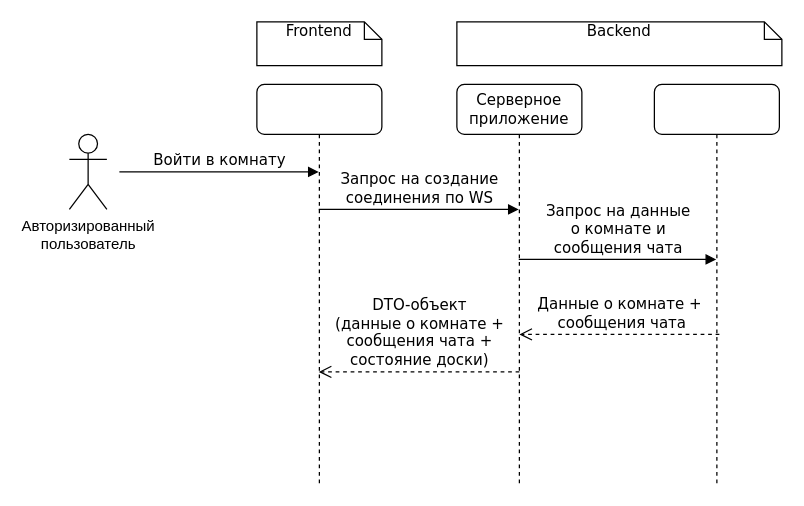
Image size: 804x506. Some labels were removed from this diagram. The shapes that lost their labels are listed below. From the top down, each one's box as (x1, y1, x2, y2) in pixels, then its label:
(256, 83, 382, 484): Браузер
(653, 83, 779, 484): СУБД
